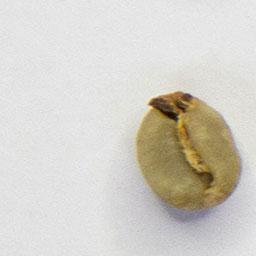defect: (133, 88, 245, 214)
